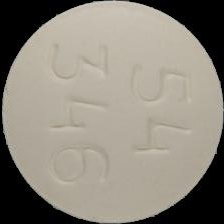0054-0020: (0, 0, 224, 224)
